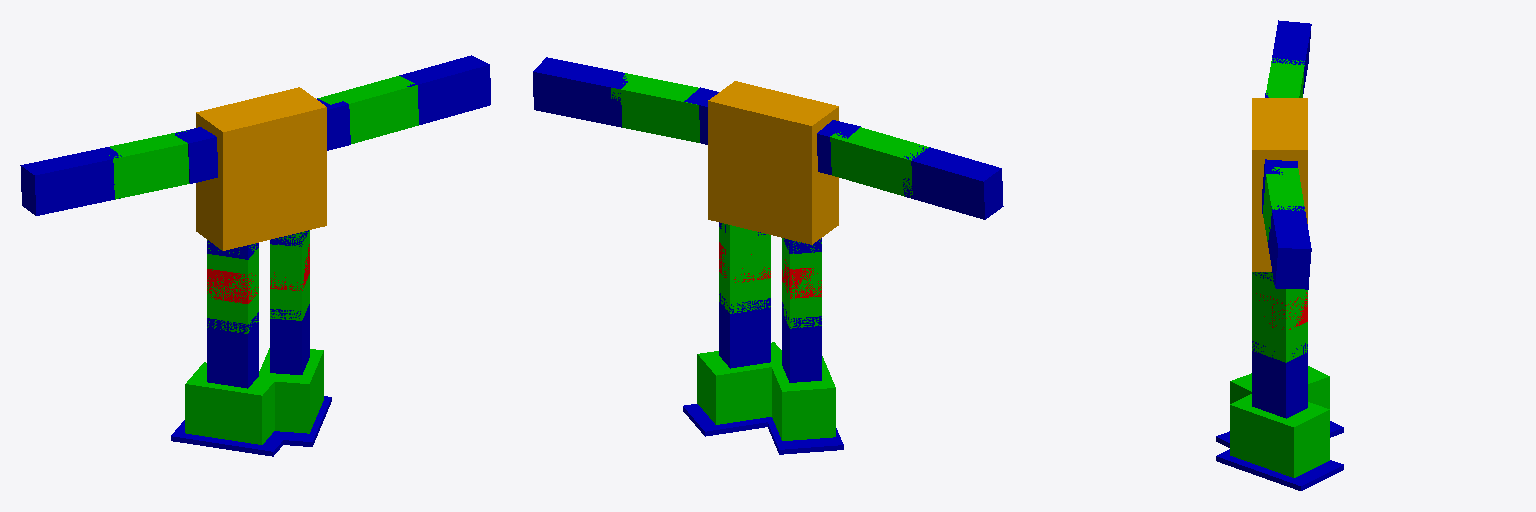
URDF robot description (awesome-o):
<?xml version="1.0" ?>
<!-- =================================================================================== -->
<!-- |    This document was autogenerated by xacro from TypeA.xacro                    | -->
<!-- |    EDITING THIS FILE BY HAND IS NOT RECOMMENDED                                 | -->
<!-- =================================================================================== -->
<robot name="awesome-o" xmlns:xacro="http://www.ros.org/wiki/xacro">
  <link name="base_link">
    <visual>
      <geometry>
        <box size="0.11 0.05 0.12"/>
      </geometry>
    </visual>
  </link>
  <link name="right_shoulder">
    <visual>
      <geometry>
        <box size="0.03 0.04 0.03"/>
      </geometry>
      <origin rpy="0 0 0" xyz="0.0 0 0.00"/>
      <material name="blue">
        <color rgba="0 0 .8 1"/>
      </material>
    </visual>
  </link>
  <joint name="base_to_right_shoulder" type="revolute">
    <parent link="base_link"/>
    <child link="right_shoulder"/>
    <origin rpy="1.5 0 0" xyz="0.07 0 0.03"/>
    <axis xyz="1 0 0"/>
    <limit effort="1000.0" lower="-3.14" upper="3.14" velocity="0.5"/>
  </joint>
  <link name="right_upper_arm">
    <visual>
      <geometry>
        <!--mesh filename="file://[local-path]/AX12.dae" scale="0.0001 0.0001 0.0001"/-->
        <box size="0.03 0.04 0.09"/>
      </geometry>
      <material name="green">
        <color rgba="0 .8 0 1"/>
      </material>
      <origin rpy="0 0 0" xyz="0.00 0 -0.045"/>
    </visual>
  </link>
  <joint name="right_shoulder_to_upper" type="revolute">
    <parent link="right_shoulder"/>
    <child link="right_upper_arm"/>
    <origin rpy="0 -1.5 0" xyz="0.00 0 0.0"/>
    <axis xyz="0 -1 0"/>
    <limit effort="1000.0" lower="-3.14" upper="3.14" velocity="0.5"/>
  </joint>
  <link name="right_forearm">
    <visual>
      <geometry>
        <!--mesh filename="file://[local-path]/AX12.dae" scale="0.0001 0.0001 0.0001"/-->
        <box size="0.03 0.04 0.09"/>
      </geometry>
      <material name="blue"/>
      <origin rpy="0 0 0" xyz="0.00 0 -0.045"/>
    </visual>
  </link>
  <joint name="right_elbow" type="revolute">
    <parent link="right_upper_arm"/>
    <child link="right_forearm"/>
    <origin rpy="0 0 0" xyz="0.00 0 -0.08"/>
    <axis xyz="0 -1 0"/>
    <limit effort="1000.0" lower="-3.14" upper="3.14" velocity="0.5"/>
  </joint>
  <link name="left_shoulder">
    <visual>
      <geometry>
        <box size="0.03 0.04 0.03"/>
      </geometry>
      <origin rpy="0 0 0" xyz="0.0 0 0.00"/>
      <material name="blue">
        <color rgba="0 0 .8 1"/>
      </material>
    </visual>
  </link>
  <joint name="base_to_left_shoulder" type="revolute">
    <parent link="base_link"/>
    <child link="left_shoulder"/>
    <origin rpy="1.5 0 0" xyz="-0.07 0 0.03"/>
    <axis xyz="-1 0 0"/>
    <limit effort="1000.0" lower="-3.14" upper="3.14" velocity="0.5"/>
  </joint>
  <link name="left_upper_arm">
    <visual>
      <geometry>
        <!--mesh filename="file://[local-path]/AX12.dae" scale="0.0001 0.0001 0.0001"/-->
        <box size="0.03 0.04 0.09"/>
      </geometry>
      <material name="green">
        <color rgba="0 .8 0 1"/>
      </material>
      <origin rpy="0 0 0" xyz="0.00 0 -0.045"/>
    </visual>
  </link>
  <joint name="left_shoulder_to_upper" type="revolute">
    <parent link="left_shoulder"/>
    <child link="left_upper_arm"/>
    <origin rpy="0 1.5 0" xyz="0.00 0 0.0"/>
    <axis xyz="0 -1 0"/>
    <limit effort="1000.0" lower="-3.14" upper="3.14" velocity="0.5"/>
  </joint>
  <link name="left_forearm">
    <visual>
      <geometry>
        <!--mesh filename="file://[local-path]/AX12.dae" scale="0.0001 0.0001 0.0001"/-->
        <box size="0.03 0.04 0.09"/>
      </geometry>
      <material name="blue"/>
      <origin rpy="0 0 0" xyz="0.00 0 -0.045"/>
    </visual>
  </link>
  <joint name="left_elbow" type="revolute">
    <parent link="left_upper_arm"/>
    <child link="left_forearm"/>
    <origin rpy="0 0 0" xyz="0.00 0 -0.08"/>
    <axis xyz="0 -1 0"/>
    <limit effort="1000.0" lower="-3.14" upper="3.14" velocity="0.5"/>
  </joint>
  <link name="right_hip">
    <visual>
      <geometry>
        <box size="0.03 0.04 0.03"/>
      </geometry>
      <origin rpy="0 0 0" xyz="0.0 0 0.00"/>
      <material name="blue">
        <color rgba="0 0 .8 1"/>
      </material>
    </visual>
  </link>
  <joint name="base_to_right_hip" type="revolute">
    <parent link="base_link"/>
    <child link="right_hip"/>
    <origin rpy="0 0 -0.7" xyz="0.03 0 -0.06"/>
    <axis xyz="0 0 -1"/>
    <limit effort="1000.0" lower="-3.14" upper="3.14" velocity="0.5"/>
  </joint>
  <link name="right_hip_split">
    <visual>
      <geometry>
        <box size="0.03 0.04 0.03"/>
      </geometry>
      <material name="red">
        <color rgba="1 .0 .0 1"/>
      </material>
      <origin rpy="0 0 0" xyz="0.00 0 -0.045"/>
    </visual>
  </link>
  <joint name="right_hip_to_split" type="revolute">
    <parent link="right_hip"/>
    <child link="right_hip_split"/>
    <origin rpy="0 0 0" xyz="0.00 0 0.0"/>
    <axis xyz="0 1 0"/>
    <limit effort="1000.0" lower="-3.14" upper="3.14" velocity="0.5"/>
  </joint>
  <link name="right_upper_leg">
    <visual>
      <geometry>
        <box size="0.03 0.04 0.09"/>
      </geometry>
      <material name="green"/>
      <origin rpy="0 0 0" xyz="0.00 0 -0.045"/>
    </visual>
  </link>
  <joint name="right_hip_split_to_upper" type="revolute">
    <parent link="right_hip_split"/>
    <child link="right_upper_leg"/>
    <origin rpy="0 0 0" xyz="0.00 0 0.0"/>
    <axis xyz="-1.0 0 0"/>
    <limit effort="1000.0" lower="-3.14" upper="3.14" velocity="0.5"/>
  </joint>
  <link name="right_calf">
    <visual>
      <geometry>
        <!--mesh filename="file://[local-path]/AX12.dae" scale="0.0001 0.0001 0.0001"/-->
        <box size="0.03 0.04 0.09"/>
      </geometry>
      <material name="blue"/>
      <origin rpy="0 0 0" xyz="0.00 0 -0.045"/>
    </visual>
  </link>
  <joint name="right_knee" type="revolute">
    <parent link="right_upper_leg"/>
    <child link="right_calf"/>
    <origin rpy="0 0 0" xyz="0.00 0 -0.08"/>
    <axis xyz="1.0 0 0"/>
    <limit effort="1000.0" lower="-3.14" upper="3.14" velocity="0.5"/>
  </joint>
  <link name="right_foot">
    <visual>
      <geometry>
        <box size="0.05 0.075 0.05"/>
      </geometry>
      <material name="green"/>
      <origin rpy="0 0 0" xyz="0.00 0 -0.045"/>
    </visual>
  </link>
  <joint name="right_ankle" type="revolute">
    <parent link="right_calf"/>
    <child link="right_foot"/>
    <origin rpy="0 0 0" xyz="0.00 0 -0.045"/>
    <axis xyz="1 0 0"/>
    <limit effort="1000.0" lower="-3.14" upper="3.14" velocity="0.5"/>
  </joint>
  <link name="right_foot_pad">
    <visual>
      <geometry>
        <box size="0.06 0.10 0.005"/>
      </geometry>
      <material name="blue"/>
      <origin rpy="0 0 0" xyz="0.00 0 -0.045"/>
    </visual>
  </link>
  <joint name="right_ankle_roll" type="revolute">
    <parent link="right_foot"/>
    <child link="right_foot_pad"/>
    <origin rpy="0 0 0" xyz="0.00 0 -0.03"/>
    <axis xyz="0 -1 0"/>
    <limit effort="1000.0" lower="-3.14" upper="3.14" velocity="0.5"/>
  </joint>
  <link name="left_hip">
    <visual>
      <geometry>
        <box size="0.03 0.04 0.03"/>
      </geometry>
      <origin rpy="0 0 0" xyz="0.0 0 0.00"/>
      <material name="blue">
        <color rgba="0 0 .8 1"/>
      </material>
    </visual>
  </link>
  <joint name="base_to_left_hip" type="revolute">
    <parent link="base_link"/>
    <child link="left_hip"/>
    <origin rpy="0 0 0.7" xyz="-0.03 0 -0.06"/>
    <axis xyz="0 0 -1"/>
    <limit effort="1000.0" lower="-3.14" upper="3.14" velocity="0.5"/>
  </joint>
  <link name="left_hip_split">
    <visual>
      <geometry>
        <box size="0.03 0.04 0.03"/>
      </geometry>
      <material name="red">
        <color rgba="1 .0 .0 1"/>
      </material>
      <origin rpy="0 0 0" xyz="0.00 0 -0.045"/>
    </visual>
  </link>
  <joint name="left_hip_to_split" type="revolute">
    <parent link="left_hip"/>
    <child link="left_hip_split"/>
    <origin rpy="0 0 0" xyz="0.00 0 0.0"/>
    <axis xyz="0 1 0"/>
    <limit effort="1000.0" lower="-3.14" upper="3.14" velocity="0.5"/>
  </joint>
  <link name="left_upper_leg">
    <visual>
      <geometry>
        <box size="0.03 0.04 0.09"/>
      </geometry>
      <material name="green"/>
      <origin rpy="0 0 0" xyz="0.00 0 -0.045"/>
    </visual>
  </link>
  <joint name="left_hip_split_to_upper" type="revolute">
    <parent link="left_hip_split"/>
    <child link="left_upper_leg"/>
    <origin rpy="0 0 0" xyz="0.00 0 0.0"/>
    <axis xyz="1.0 0 0"/>
    <limit effort="1000.0" lower="-3.14" upper="3.14" velocity="0.5"/>
  </joint>
  <link name="left_calf">
    <visual>
      <geometry>
        <!--mesh filename="file://[local-path]/AX12.dae" scale="0.0001 0.0001 0.0001"/-->
        <box size="0.03 0.04 0.09"/>
      </geometry>
      <material name="blue"/>
      <origin rpy="0 0 0" xyz="0.00 0 -0.045"/>
    </visual>
  </link>
  <joint name="left_knee" type="revolute">
    <parent link="left_upper_leg"/>
    <child link="left_calf"/>
    <origin rpy="0 0 0" xyz="0.00 0 -0.08"/>
    <axis xyz="-1.0 0 0"/>
    <limit effort="1000.0" lower="-3.14" upper="3.14" velocity="0.5"/>
  </joint>
  <link name="left_foot">
    <visual>
      <geometry>
        <box size="0.05 0.075 0.05"/>
      </geometry>
      <material name="green"/>
      <origin rpy="0 0 0" xyz="0.00 0 -0.045"/>
    </visual>
  </link>
  <joint name="left_ankle" type="revolute">
    <parent link="left_calf"/>
    <child link="left_foot"/>
    <origin rpy="0 0 0" xyz="0.00 0 -0.045"/>
    <axis xyz="-1 0 0"/>
    <limit effort="1000.0" lower="-3.14" upper="3.14" velocity="0.5"/>
  </joint>
  <link name="left_foot_pad">
    <visual>
      <geometry>
        <box size="0.06 0.10 0.005"/>
      </geometry>
      <material name="blue"/>
      <origin rpy="0 0 0" xyz="0.00 0 -0.045"/>
    </visual>
  </link>
  <joint name="left_ankle_roll" type="revolute">
    <parent link="left_foot"/>
    <child link="left_foot_pad"/>
    <origin rpy="0 0 0" xyz="0.00 0 -0.03"/>
    <axis xyz="0 -1 0"/>
    <limit effort="1000.0" lower="-3.14" upper="3.14" velocity="0.5"/>
  </joint>
</robot>

--- Render facts (derived) ---
Views: 3 orthographic renders of the robot side by side, from view 1: azimuth 30°, elevation 25°; view 2: azimuth 150°, elevation 25°; view 3: azimuth 270°, elevation 25°.
Model awesome-o with 19 links and 18 joints (18 revolute), rooted at base_link, posed every joint at zero.
Links seen in each view (by area): view 1: base_link, left_foot, left_forearm, right_forearm, left_upper_arm, right_upper_arm, right_foot, left_calf, right_upper_leg, left_upper_leg, right_calf, left_shoulder (+4 smaller); view 2: base_link, left_forearm, right_forearm, right_foot, left_upper_arm, right_upper_arm, left_foot, right_upper_leg, right_calf, left_calf, left_upper_leg, right_foot_pad (+4 smaller); view 3: right_foot, base_link, right_upper_leg, right_calf, right_forearm, right_upper_arm, right_foot_pad, left_forearm, left_upper_arm, left_foot.
Link boxes in pixels (<box>): base_link: <box>196,87,326,250</box>; left_foot: <box>185,362,274,444</box>; left_forearm: <box>20,147,121,215</box>; right_forearm: <box>399,55,490,124</box>; left_upper_arm: <box>109,131,189,199</box>; right_upper_arm: <box>318,76,418,143</box>; right_foot: <box>256,348,323,433</box>; left_calf: <box>207,312,258,388</box>; right_upper_leg: <box>270,230,309,320</box>; left_upper_leg: <box>207,240,258,333</box>; right_calf: <box>270,304,309,374</box>; left_shoulder: <box>175,127,217,183</box>; base_link: <box>708,81,838,244</box>; left_forearm: <box>903,146,1003,219</box>; right_forearm: <box>533,57,627,127</box>; right_foot: <box>697,342,781,424</box>; left_upper_arm: <box>830,127,928,197</box>; right_upper_arm: <box>611,73,699,142</box>; left_foot: <box>772,356,835,440</box>; right_upper_leg: <box>719,223,770,313</box>; right_calf: <box>719,293,770,368</box>; left_calf: <box>782,302,821,382</box>; left_upper_leg: <box>782,238,821,328</box>; right_foot_pad: <box>683,404,772,436</box>; right_foot: <box>1230,394,1329,477</box>; base_link: <box>1252,98,1307,271</box>; right_upper_leg: <box>1252,272,1307,362</box>; right_calf: <box>1252,341,1307,418</box>; right_forearm: <box>1268,205,1311,289</box>; right_upper_arm: <box>1263,167,1304,241</box>; right_foot_pad: <box>1216,449,1343,490</box>; left_forearm: <box>1272,20,1311,93</box>; left_upper_arm: <box>1266,58,1304,97</box>; left_foot: <box>1230,366,1329,408</box>.
Bounding box of the posed robot: 0.4813 × 0.1151 × 0.3225 m (x, y, z).
Geometry: primitives only (box / cylinder / sphere), no mesh files.
